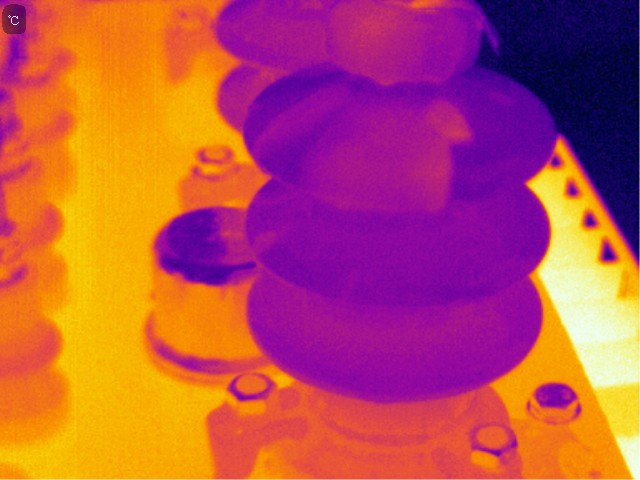Oil: (303, 97, 479, 210), (333, 1, 464, 85), (259, 113, 296, 156), (252, 228, 280, 254)
